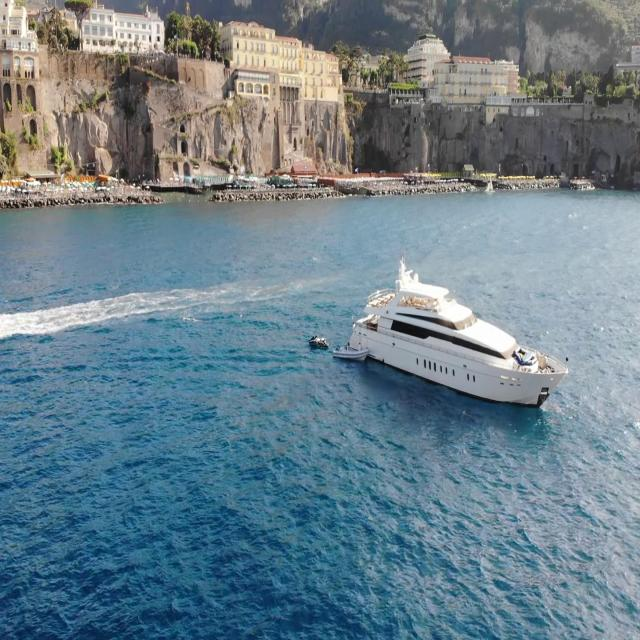boat: (348, 250, 570, 413), (334, 341, 368, 362), (308, 328, 330, 349)
